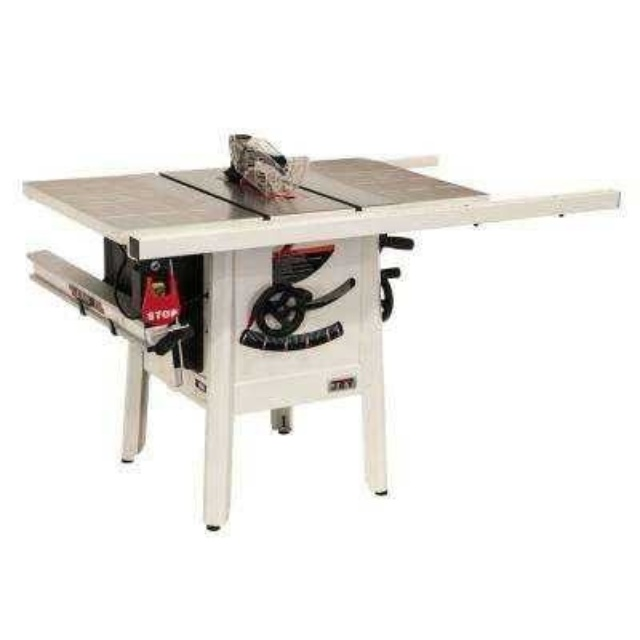obstacle: (22, 144, 621, 530)
